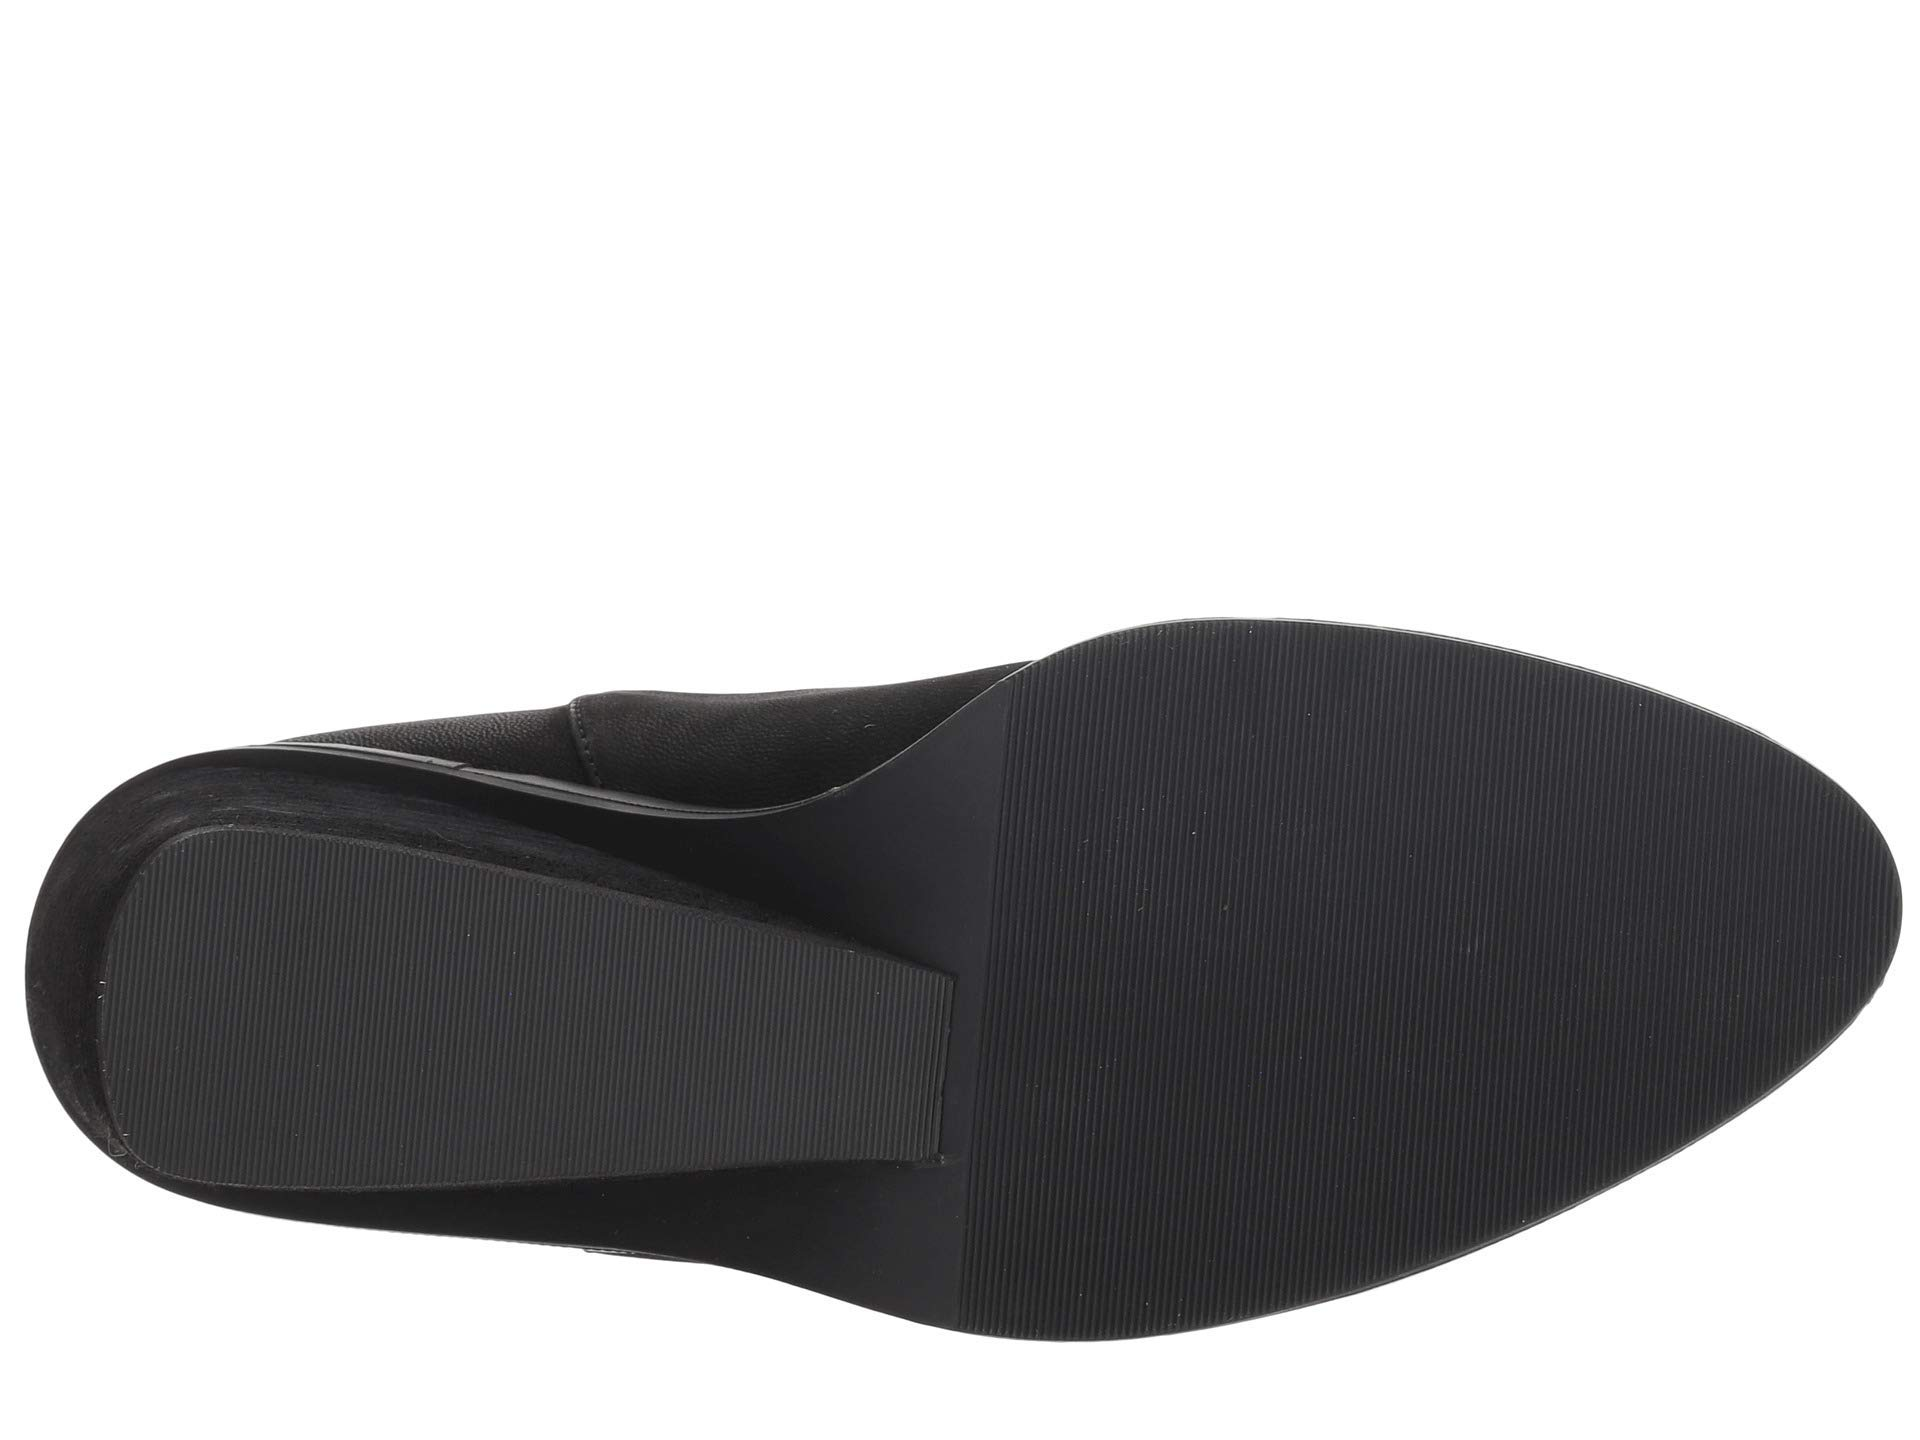line: (1048, 663, 1624, 1163), (184, 874, 677, 1144)
